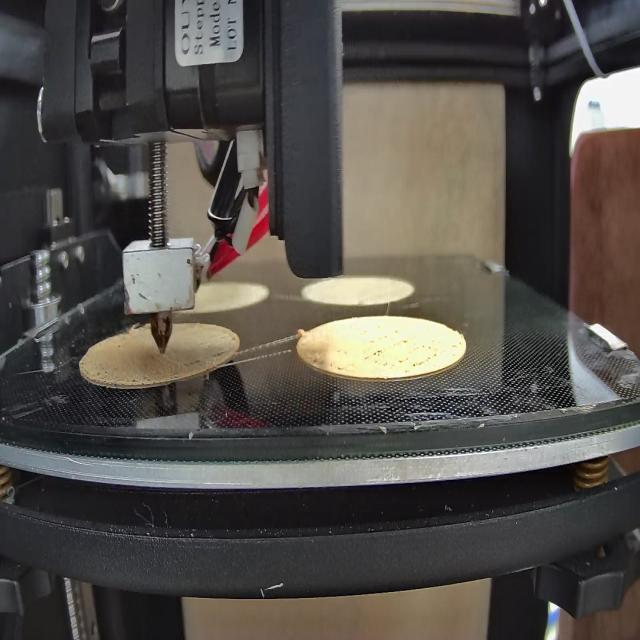under_extrusion: (362, 330, 461, 378), (80, 359, 155, 386), (181, 343, 237, 372), (313, 347, 349, 377)
